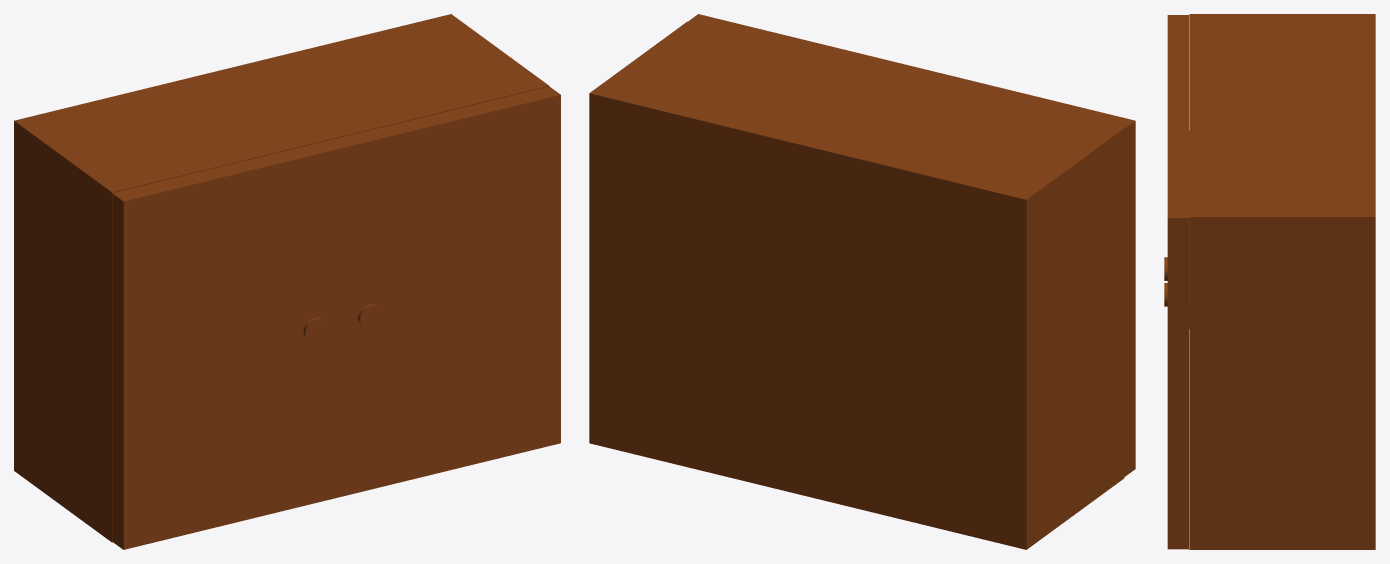
Rendered from cupboard.fbx.
The picture shows the model from 3 angles, left to right: view 1: azimuth 30°, elevation 25°; view 2: azimuth 150°, elevation 25°; view 3: azimuth 270°, elevation 25°; orthographic projection. The views are drawn at different scales.
Visible parts, largest first — view 1: cupboard; view 2: cupboard; view 3: cupboard.
Boxes of the visible parts, x1=… form: cupboard: x1=14, y1=14, x2=560, y2=549; cupboard: x1=589, y1=14, x2=1135, y2=549; cupboard: x1=1164, y1=14, x2=1375, y2=549.
Bounding box in the file's own units: 113 × 86.72 × 49.88.
